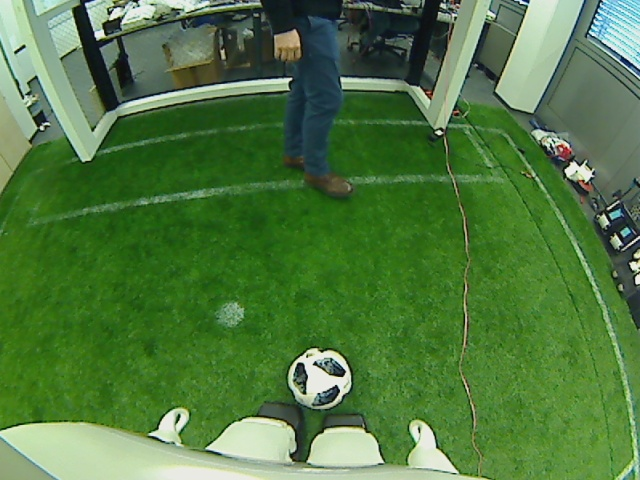ball: (287, 344, 355, 409)
